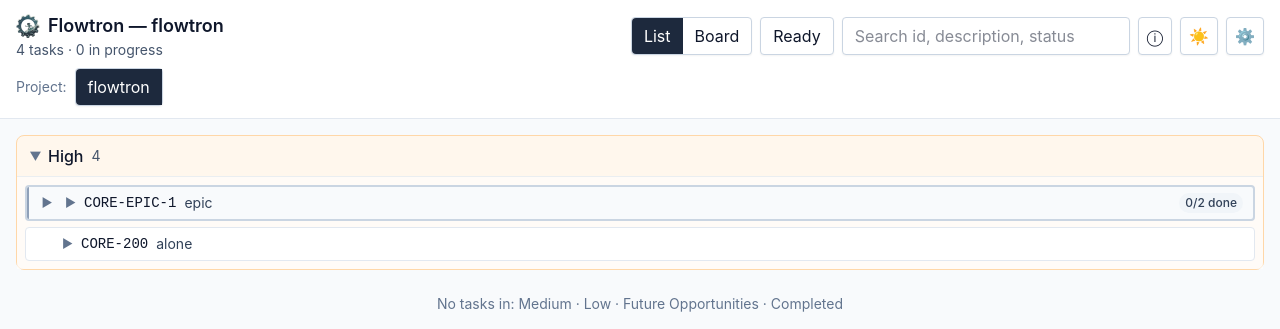
Test case: App — prune epic children under filter › reports matching count from the pruned tree (parent + matching children only)
Check: the text "CORE-EPIC-1" is shown, box [84,193,176,213]
Check: the text "4 tasks · 0 in progress" is shown, box [16,41,163,58]
In the search field: x=986, y=36 [842,17,1130,55], type "match me"
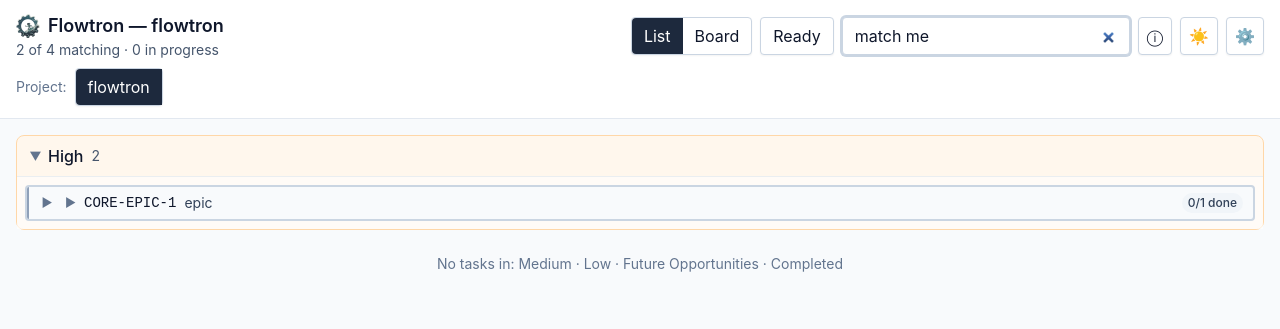
Check: the text "2 of 4 matching · 0 in progress" is shown, box [16,40,224,60]
